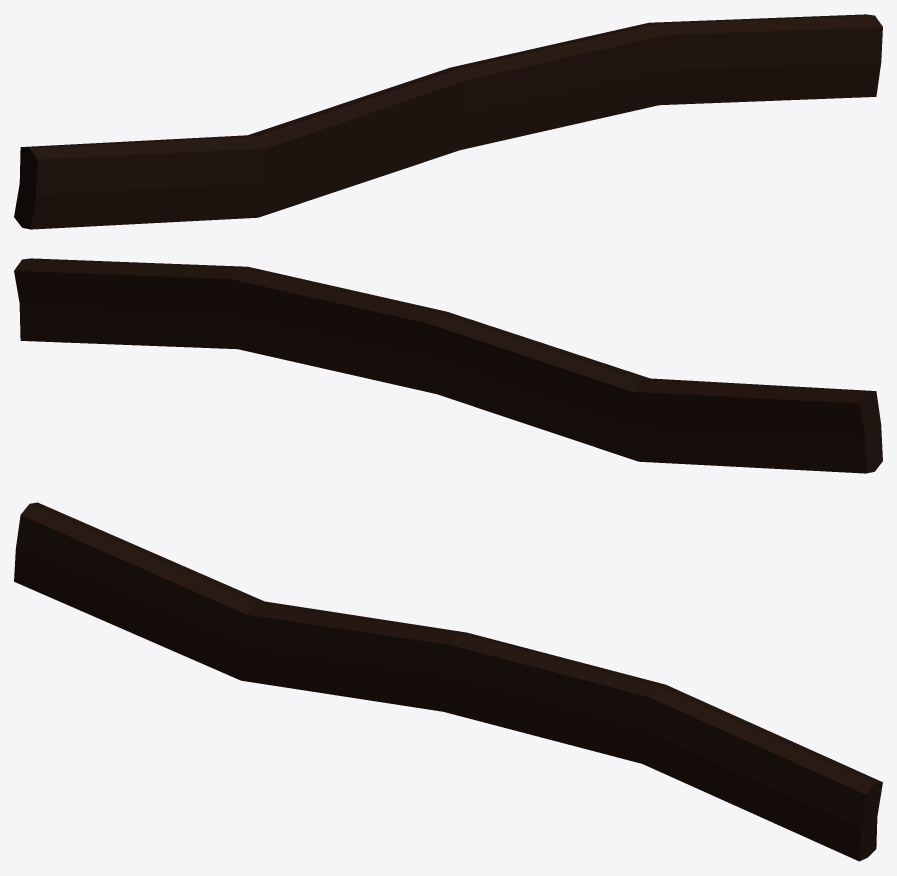
File: BoardShort_FBX.fbx
The picture shows the model from 3 angles, top to bottom: view 1: azimuth 30°, elevation 25°; view 2: azimuth 150°, elevation 25°; view 3: azimuth 330°, elevation 25°; orthographic projection.
Parts seen in each view (by area): view 1: Plank_Short; view 2: Plank_Short; view 3: Plank_Short.
Part boxes in pixels (<box>): Plank_Short: <box>14,14,882,229</box>; Plank_Short: <box>14,258,882,473</box>; Plank_Short: <box>14,502,882,861</box>.
Bounding box in the file's own units: 240 × 40.16 × 9.72.
